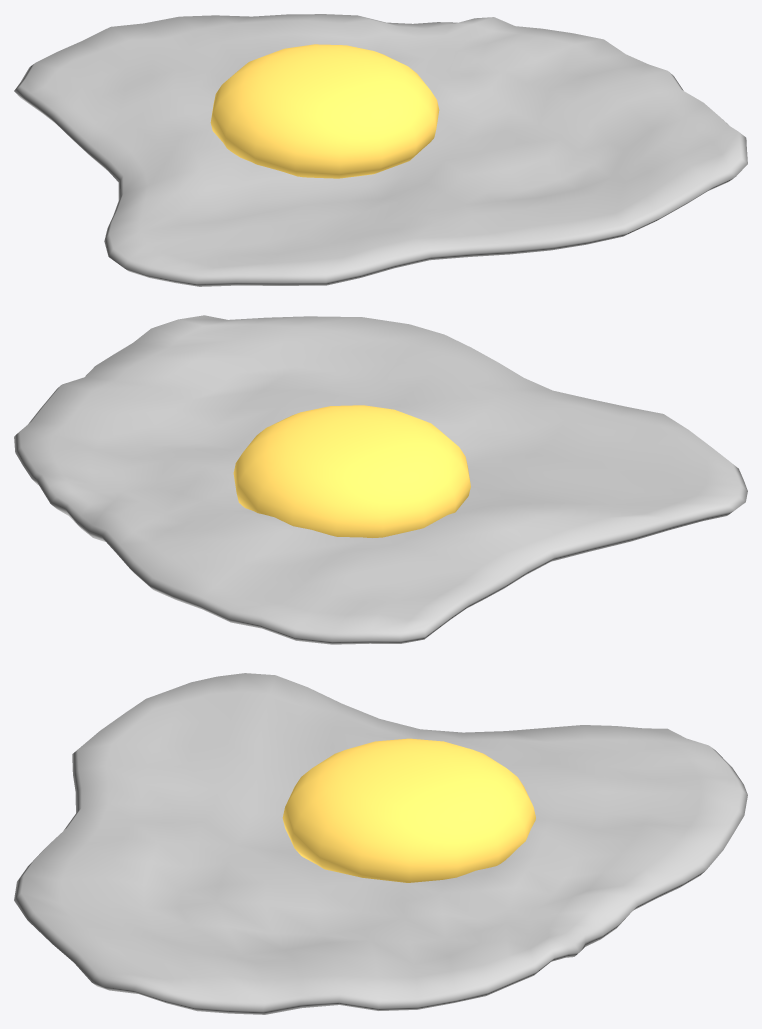
Rendered from egg_fried.fbx.
The picture shows the model from 3 angles, top to bottom: view 1: azimuth 30°, elevation 25°; view 2: azimuth 150°, elevation 25°; view 3: azimuth 270°, elevation 25°; orthographic projection. The views are drawn at different scales.
Visible parts, largest first — view 1: egg_white, egg_yolk; view 2: egg_white, egg_yolk; view 3: egg_white, egg_yolk.
Part boxes in pixels (x1,y1,x2,y2): egg_white: (14,14,747,286); egg_yolk: (210,44,439,178); egg_white: (14,315,747,644); egg_yolk: (233,405,470,537); egg_white: (14,673,747,1014); egg_yolk: (282,738,535,882).
Bounding box in the file's own units: 0.2426 × 0.035 × 0.2298.
